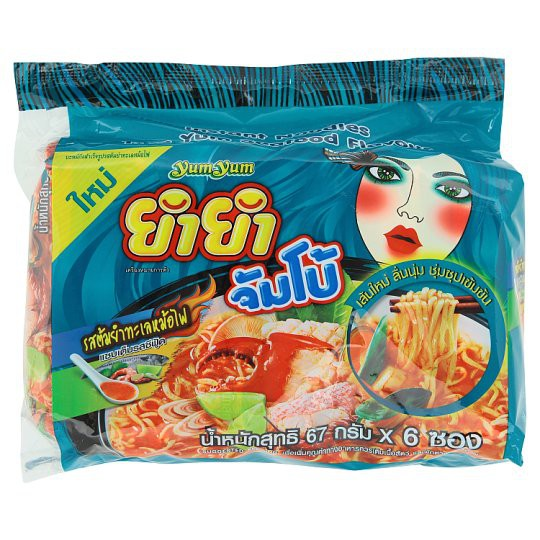Snack: (5, 53, 535, 487)
